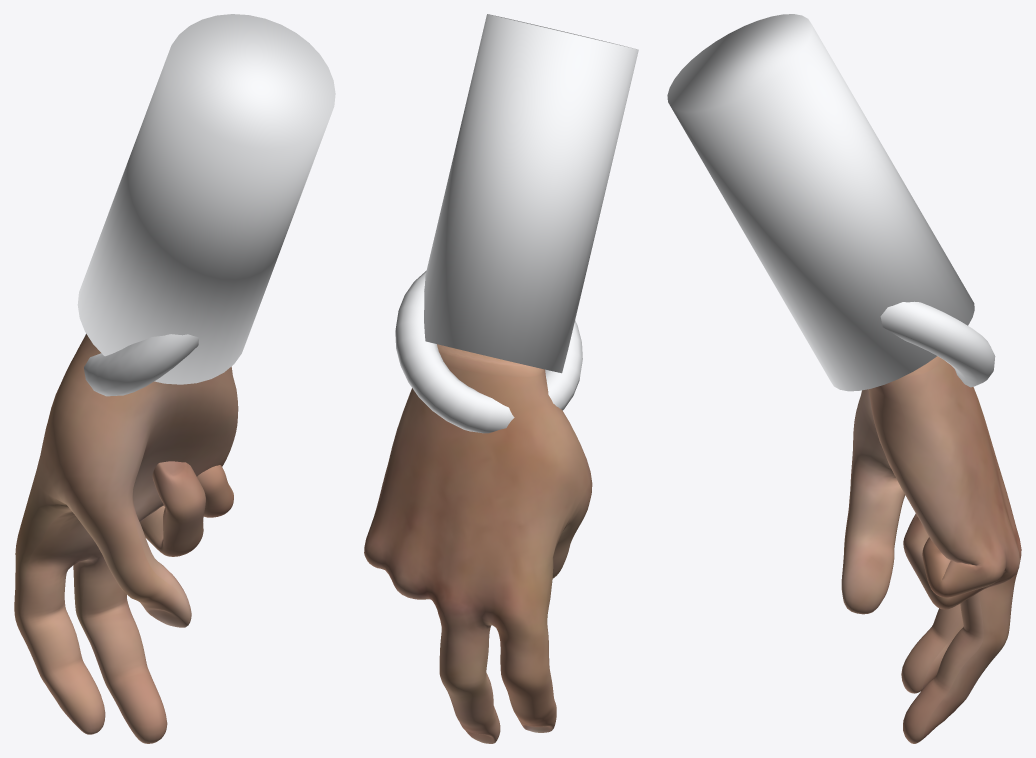
The model's file is hand_two_finger.glb.
3 renders of one model, left to right at view 1: azimuth 30°, elevation 25°; view 2: azimuth 150°, elevation 25°; view 3: azimuth 270°, elevation 25°, orthographic. The views are drawn at different scales.
Parts seen in each view (by area): view 1: sleeve, hand, cuff; view 2: hand, sleeve, cuff; view 3: sleeve, hand, cuff.
Boxes of the visible parts, bbox=[...] form: sleeve: bbox=[77, 14, 335, 384]; hand: bbox=[14, 334, 238, 743]; cuff: bbox=[84, 333, 198, 396]; hand: bbox=[364, 344, 592, 743]; sleeve: bbox=[424, 14, 638, 373]; cuff: bbox=[395, 270, 582, 433]; sleeve: bbox=[667, 14, 974, 391]; hand: bbox=[841, 356, 1021, 743]; cuff: bbox=[880, 301, 995, 387].
Size of the model in its own units: 0.0802 by 0.2945 by 0.1319.
2 materials, 1 textured.
